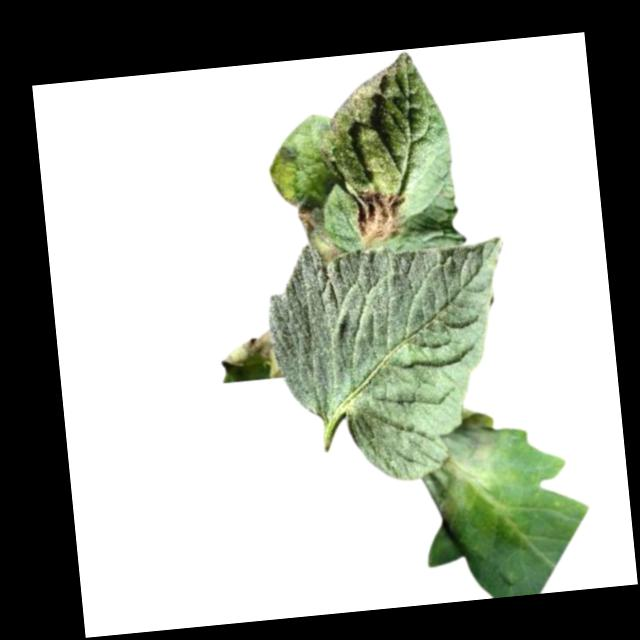Late_blight: (415, 404, 508, 528), (345, 186, 412, 247), (219, 331, 279, 386), (286, 190, 322, 234)
healthy: (262, 226, 524, 488)
